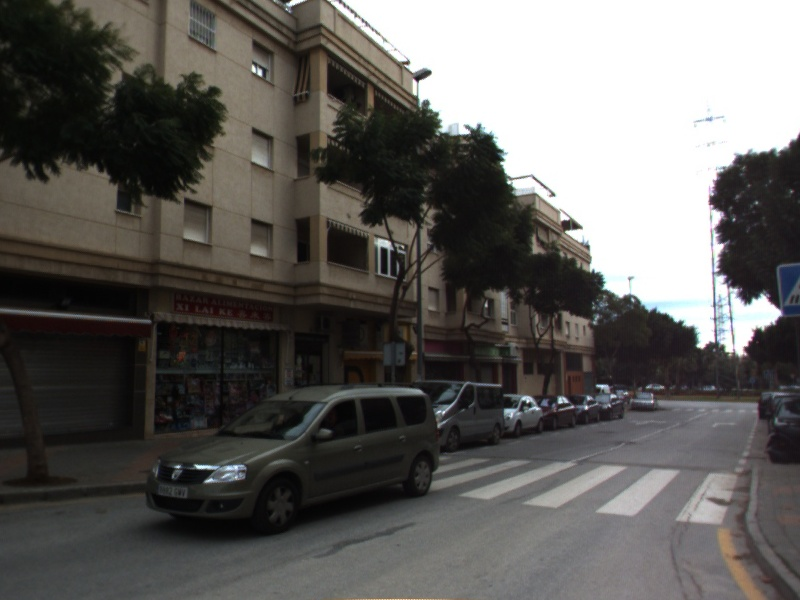RIGHT: (710, 420, 739, 429)
